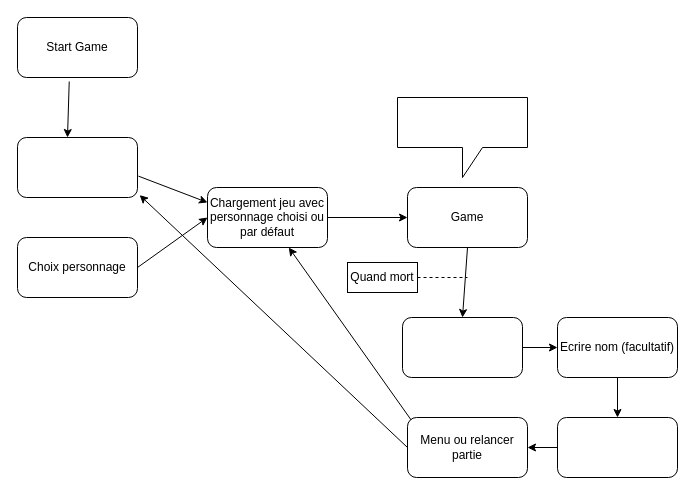
This 695x495 diagram has some shape labels left out. Each missing label, with the centre of its shape:
Chargement score: the point at 462,347
gérer terrain qui défile, saut personnage, vie, points: the point at 462,137
Menu: the point at 77,167
Stockage score: the point at 617,447
